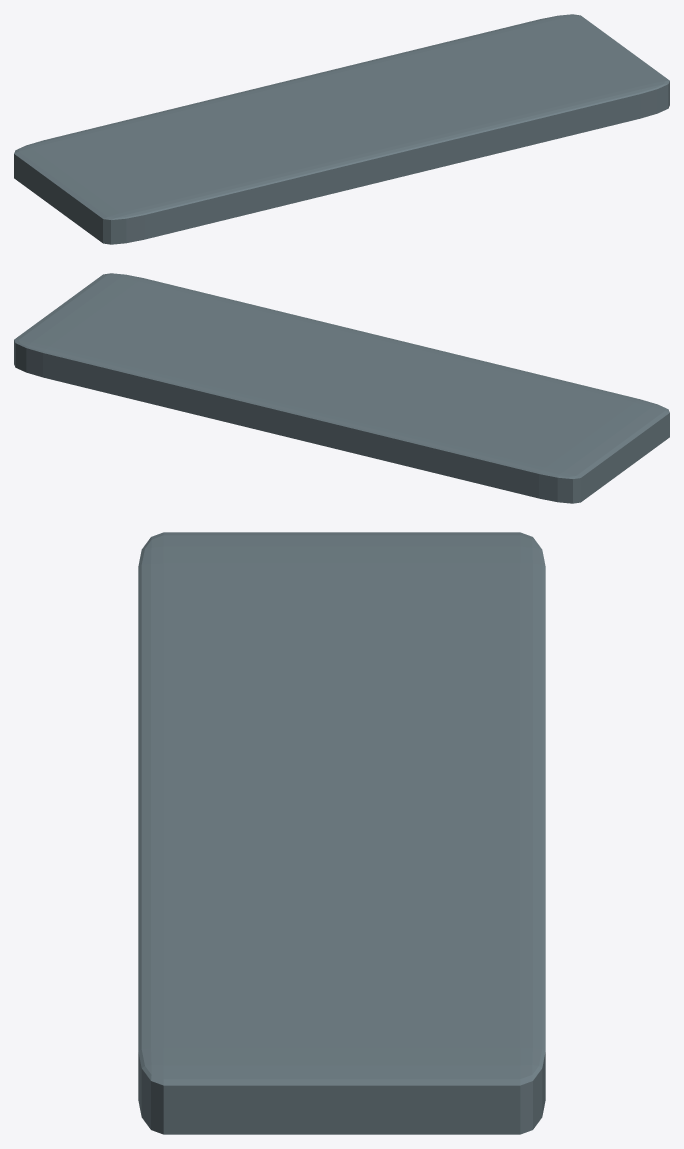
File: rc_board_model.glb
3 renders of one model, top to bottom at view 1: azimuth 30°, elevation 25°; view 2: azimuth 150°, elevation 25°; view 3: azimuth 270°, elevation 25°, orthographic. The views are drawn at different scales.
Parts seen in each view (by area): view 1: Cube; view 2: Cube; view 3: Cube.
Boxes of the visible parts, <box> form: Cube: <box>14,14,669,244</box>; Cube: <box>14,273,669,503</box>; Cube: <box>138,532,545,1134</box>.
Bounding box in the file's own units: 6.43 × 0.3037 × 2.
